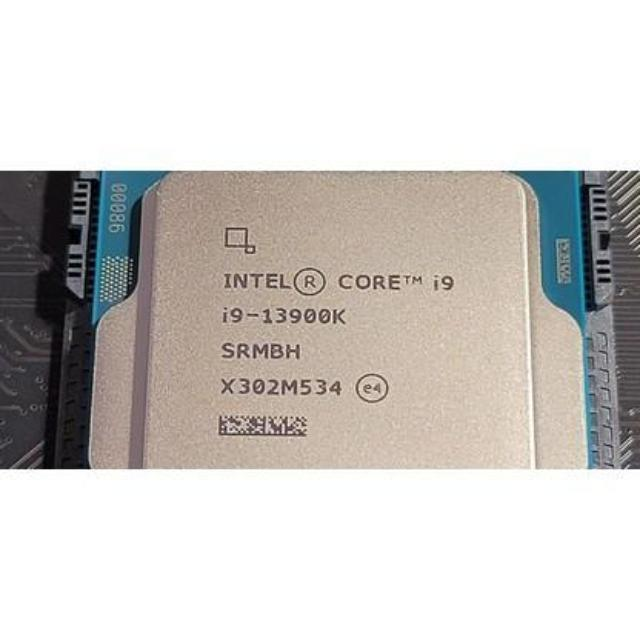CPU: (100, 170, 566, 472)
